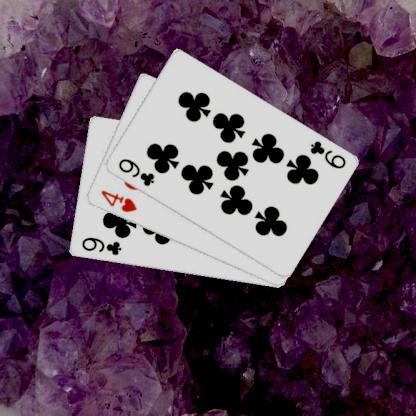4H: (97, 188, 138, 214)
9C: (307, 138, 347, 171), (115, 156, 155, 188), (78, 235, 123, 257)
